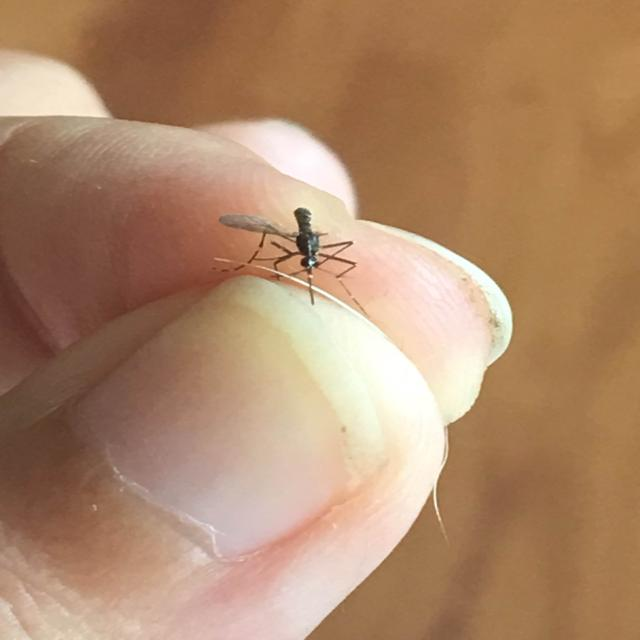albopictus: (207, 196, 370, 316)
